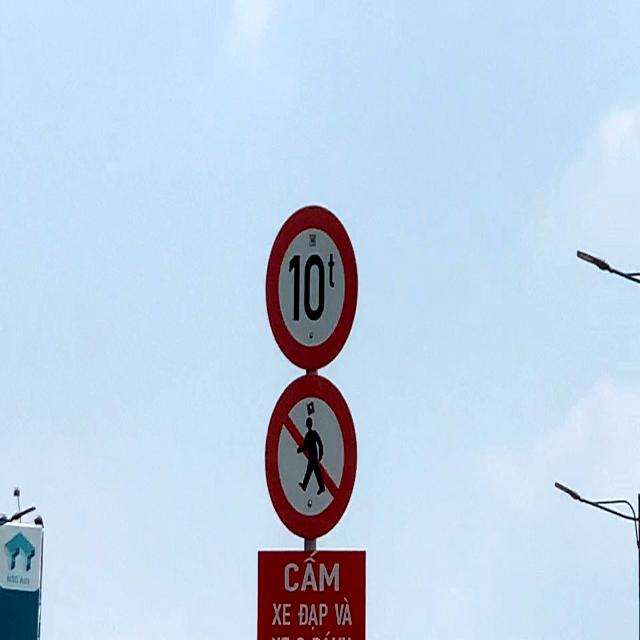P.112: (266, 374, 362, 541)
P.115: (265, 198, 364, 368)
